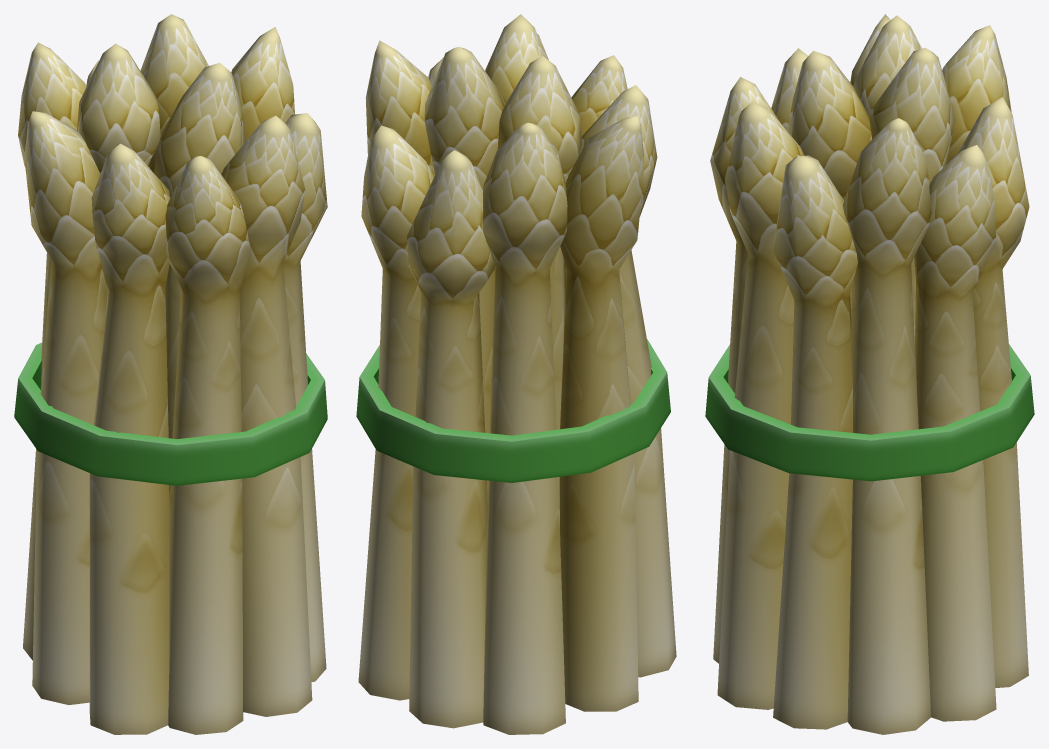
Rendered from Asparagus_White.fbx.
The picture shows the model from 3 angles, left to right: view 1: azimuth 30°, elevation 25°; view 2: azimuth 150°, elevation 25°; view 3: azimuth 270°, elevation 25°; orthographic projection.
Visible parts, largest first — view 1: Asparagus_White; view 2: Asparagus_White; view 3: Asparagus_White.
Boxes of the visible parts, bbox=[...] form: Asparagus_White: bbox=[14, 14, 327, 734]; Asparagus_White: bbox=[356, 14, 676, 734]; Asparagus_White: bbox=[705, 14, 1034, 734].
Size of the model in its own units: 40.68 by 91.45 by 42.89.
